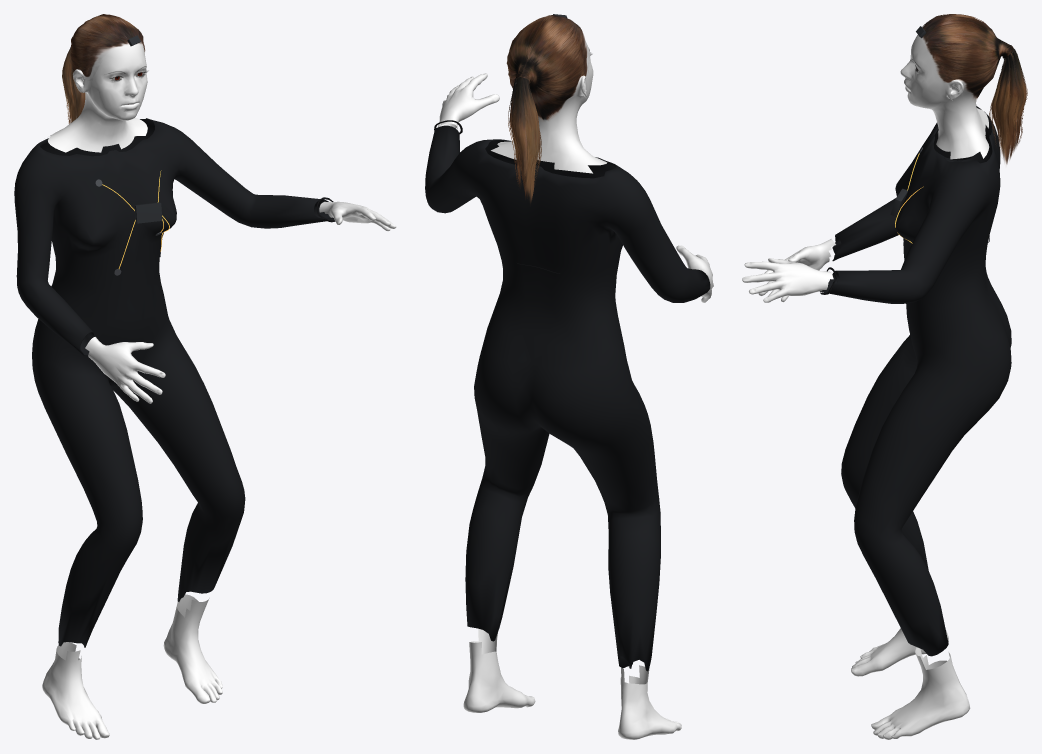
Rendered from ana-suit.glb.
3 views of the same model, side by side, from view 1: azimuth 30°, elevation 25°; view 2: azimuth 150°, elevation 25°; view 3: azimuth 270°, elevation 25° (orthographic). The views are drawn at different scales.
Parts seen in each view (by area): view 1: suit, body, ana_body.ponytail01; view 2: suit, body, ana_body.ponytail01; view 3: suit, body, ana_body.ponytail01.
Part boxes in pixels (x1,y1,x2,y2): suit: (14,118,334,647); body: (42,42,396,739); ana_body.ponytail01: (62,14,145,123); suit: (425,125,710,671); body: (438,36,713,739); ana_body.ponytail01: (506,15,587,203); suit: (820,106,1011,656); body: (742,35,989,739); ana_body.ponytail01: (922,14,1027,164).
Size of the model in its own units: 0.7591 by 1.65 by 0.6217.
16 materials, 10 textured.
